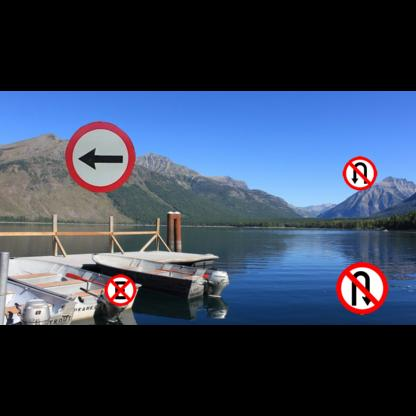R-24a: (65, 121, 135, 192)
R-5a: (343, 156, 377, 190)
R-6c: (105, 274, 136, 306)
